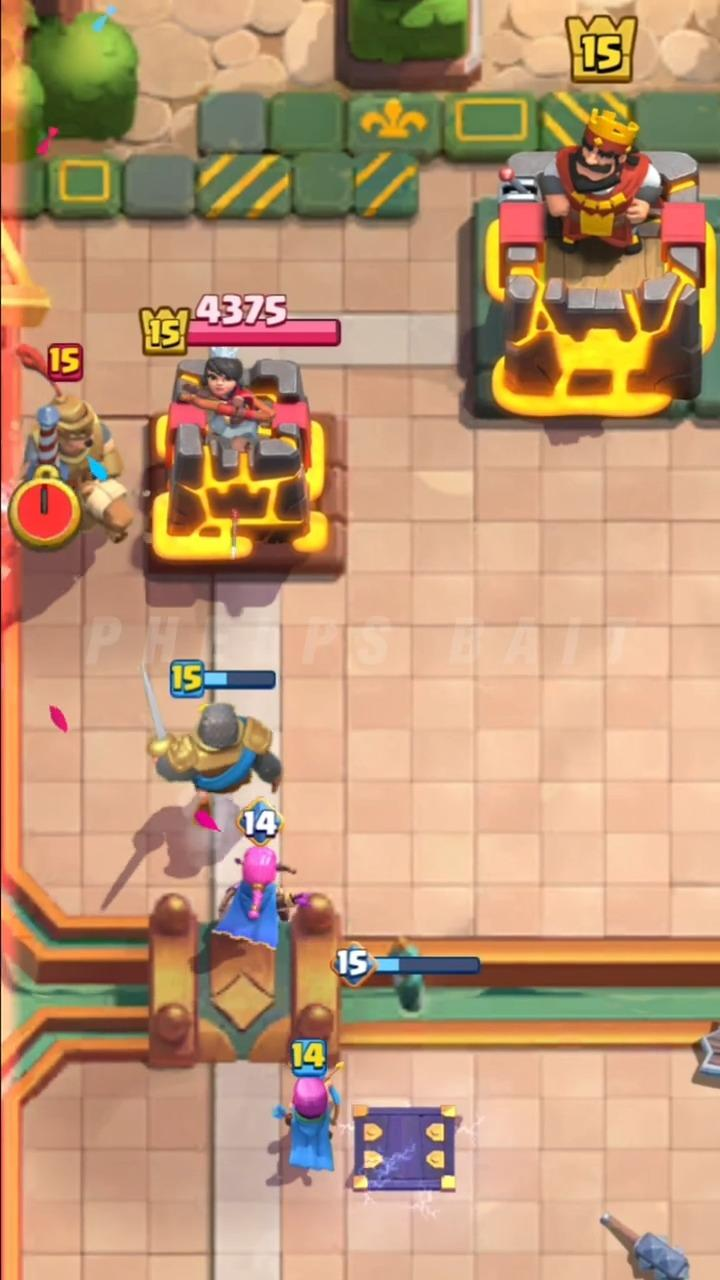archer: (214, 847, 287, 951), (274, 1071, 340, 1171)
knight: (144, 669, 281, 820)
prince: (18, 346, 132, 541), (23, 412, 46, 479)
tesla: (355, 1107, 453, 1192)
